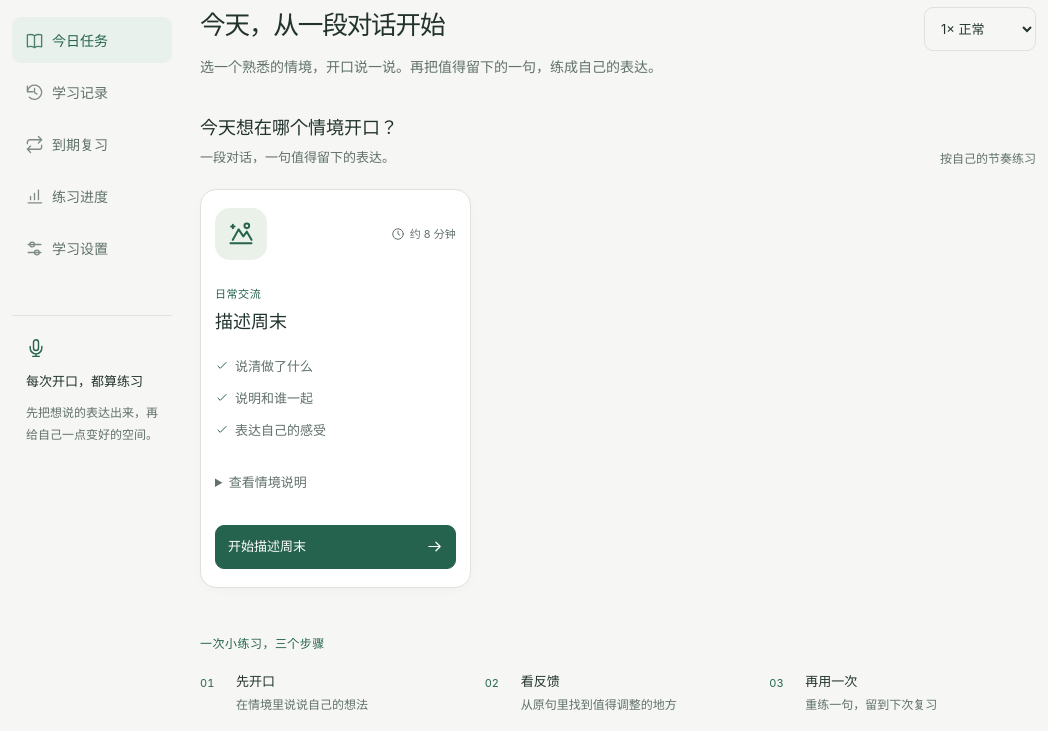
Test case: learning workflow › uses the original request ID after uncertain network and guards duplicate sends
Click the button "开始描述周末": (335,547) [215, 525, 456, 569]
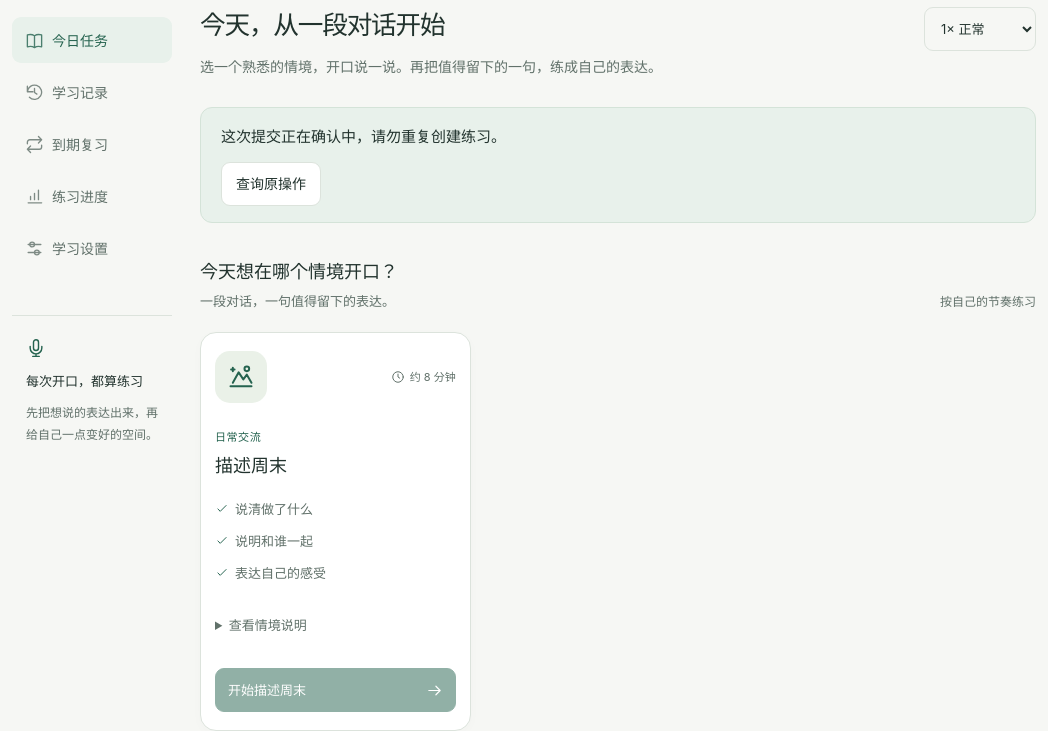
Click the button "开始描述周末": (335,690) [215, 668, 456, 712]
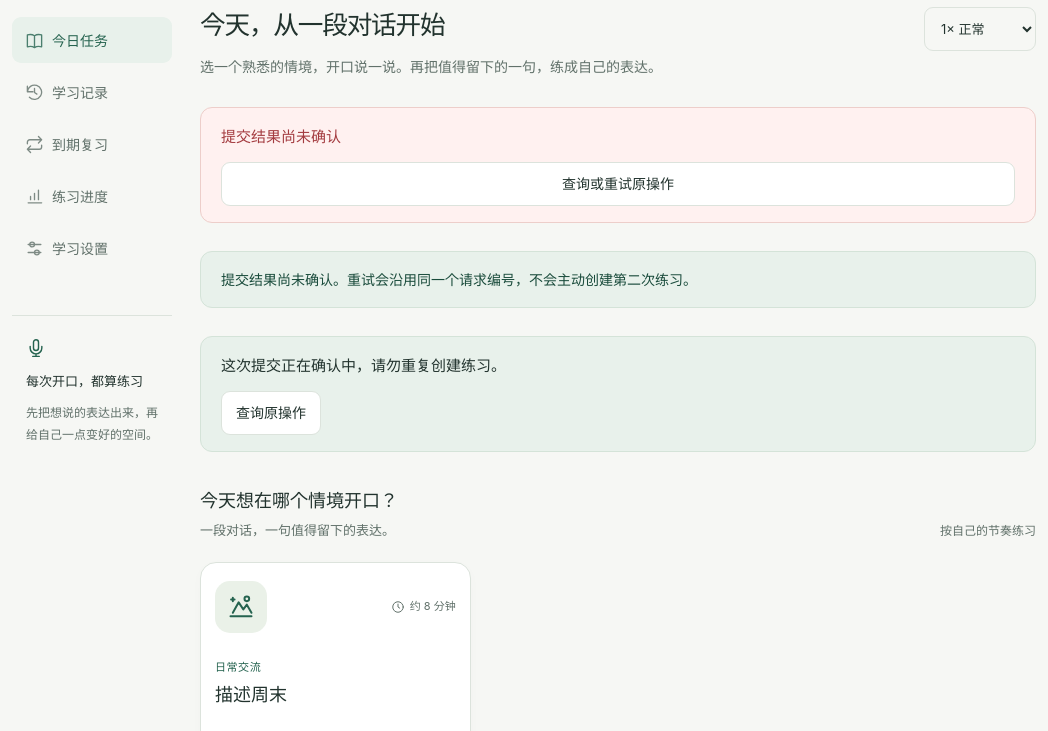
Click the button "查询或重试原操作": (618,184) [221, 162, 1015, 206]
(page scrolled)
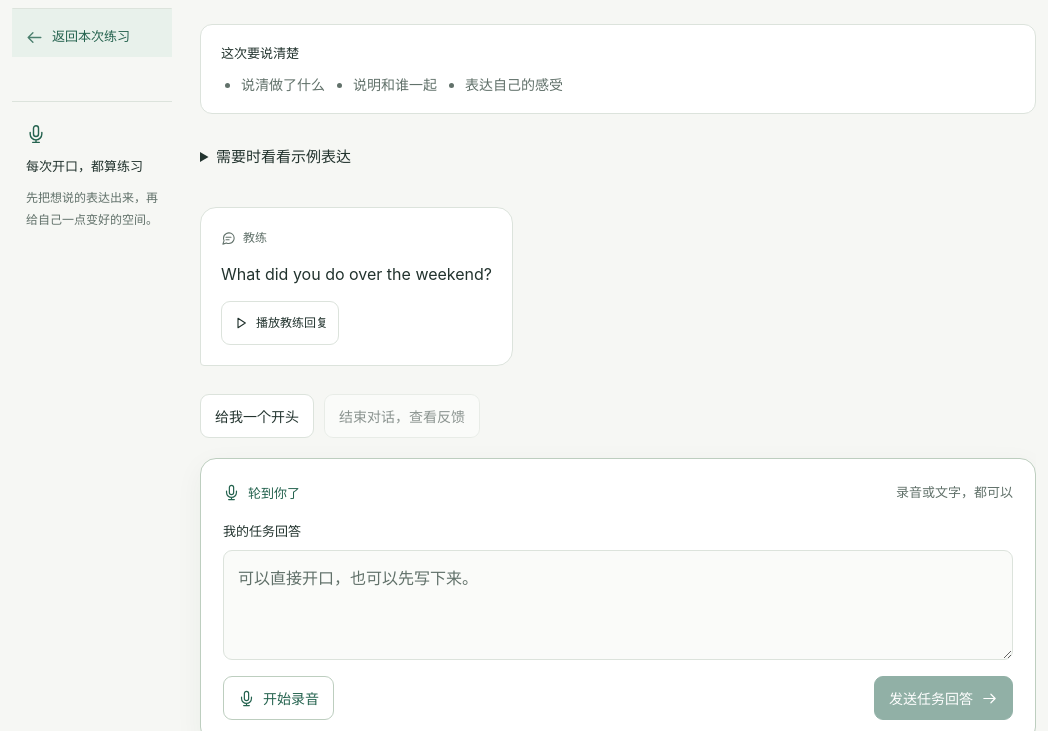
Check: the text box labelled "我的任务回答" is shown, box [223, 550, 1013, 660]
